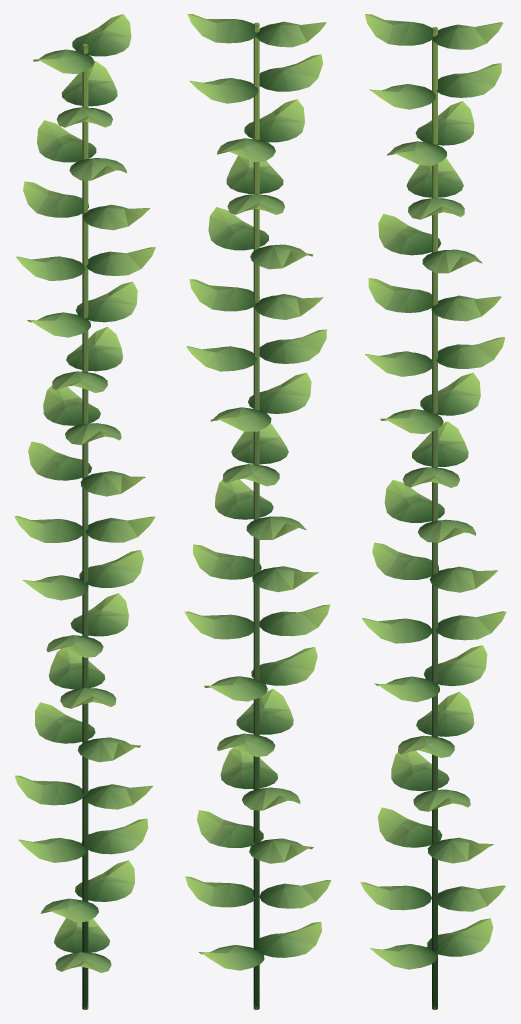
Rendered from SM_Algae_9.fbx.
3 renders of one model, left to right at view 1: azimuth 30°, elevation 25°; view 2: azimuth 150°, elevation 25°; view 3: azimuth 330°, elevation 25°, orthographic. The views are drawn at different scales.
Parts seen in each view (by area): view 1: Algae_9; view 2: Algae_9; view 3: Algae_9.
Boxes of the visible parts, x1,y1,x2,y2 form: Algae_9: (14, 14, 155, 1009); Algae_9: (184, 14, 331, 1009); Algae_9: (360, 14, 506, 1009).
Size of the model in its own units: 40.66 by 314 by 40.97.
